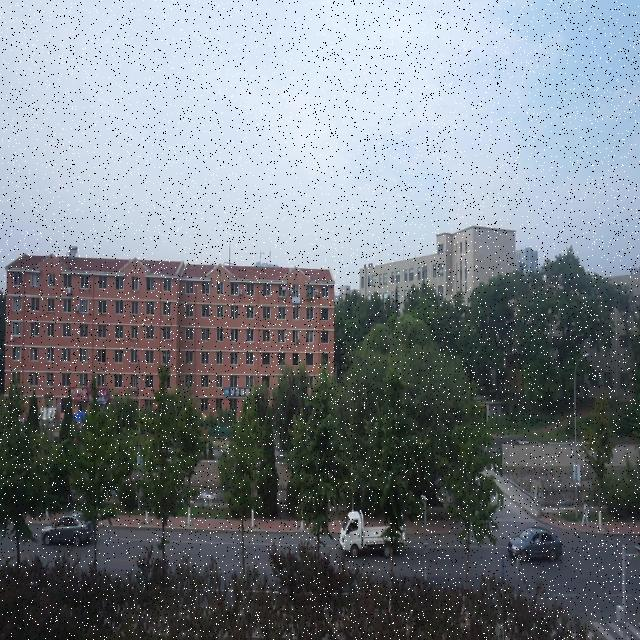UAV: (199, 492, 217, 506)
